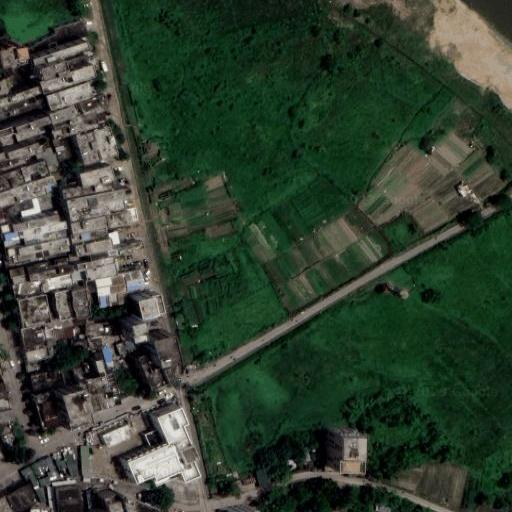building: (127, 408, 200, 484), (41, 62, 97, 93), (46, 78, 98, 111), (59, 388, 98, 432), (0, 176, 56, 203), (66, 188, 131, 211), (52, 110, 100, 140), (68, 199, 126, 223), (35, 43, 91, 65), (16, 293, 50, 328), (137, 354, 168, 390), (18, 236, 72, 256), (12, 245, 70, 263), (155, 335, 184, 370), (88, 243, 144, 261), (21, 466, 47, 502), (42, 319, 76, 346), (93, 125, 119, 160), (6, 484, 38, 512), (12, 214, 61, 232), (19, 220, 68, 238), (23, 228, 70, 246), (44, 404, 69, 437), (37, 55, 70, 79), (28, 265, 76, 281), (31, 371, 65, 393), (12, 115, 51, 134), (76, 134, 100, 164), (102, 426, 132, 450), (80, 167, 115, 187), (22, 324, 47, 352), (75, 238, 113, 256), (71, 216, 108, 234), (73, 227, 110, 245), (19, 161, 49, 183), (7, 143, 41, 162), (48, 104, 77, 126), (69, 289, 90, 319), (55, 288, 74, 321), (328, 433, 354, 457), (13, 279, 44, 299), (78, 256, 115, 272), (97, 291, 129, 309), (41, 274, 71, 293), (29, 455, 54, 477), (249, 462, 269, 489), (122, 269, 146, 291), (58, 488, 80, 512), (106, 210, 136, 227), (138, 297, 160, 320), (20, 196, 43, 218), (93, 273, 124, 289), (62, 185, 97, 199), (95, 283, 126, 297), (15, 125, 42, 141), (36, 471, 60, 489), (89, 265, 117, 280), (79, 96, 102, 114), (96, 386, 111, 411), (2, 48, 19, 70), (86, 321, 110, 336), (18, 189, 45, 202), (3, 231, 21, 250), (45, 152, 61, 173), (133, 324, 149, 345), (27, 347, 49, 362), (95, 352, 108, 377), (328, 457, 354, 469), (115, 340, 137, 354), (26, 262, 50, 274), (81, 446, 90, 478), (103, 350, 116, 370), (47, 485, 56, 512), (457, 183, 472, 199), (106, 385, 116, 408), (107, 498, 123, 512), (66, 454, 76, 476), (155, 295, 167, 313), (10, 266, 28, 278), (164, 368, 176, 386), (39, 195, 54, 209), (91, 393, 102, 412), (95, 181, 112, 193), (121, 500, 138, 512), (12, 274, 29, 284), (16, 46, 29, 59), (84, 279, 96, 293), (36, 148, 52, 158), (56, 258, 70, 269), (374, 504, 392, 512), (54, 480, 77, 486), (1, 224, 14, 234), (1, 199, 15, 208), (29, 506, 50, 512), (56, 458, 67, 469), (74, 368, 83, 381), (96, 112, 106, 122), (109, 232, 119, 242), (71, 272, 81, 281), (6, 248, 15, 257), (54, 146, 64, 153), (69, 256, 78, 261)
